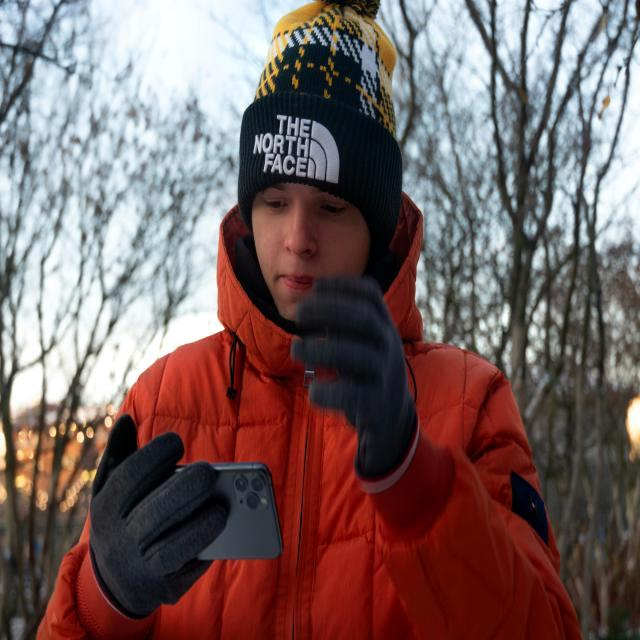no_hard_hat: (239, 0, 401, 250)
person: (33, 0, 581, 640)
